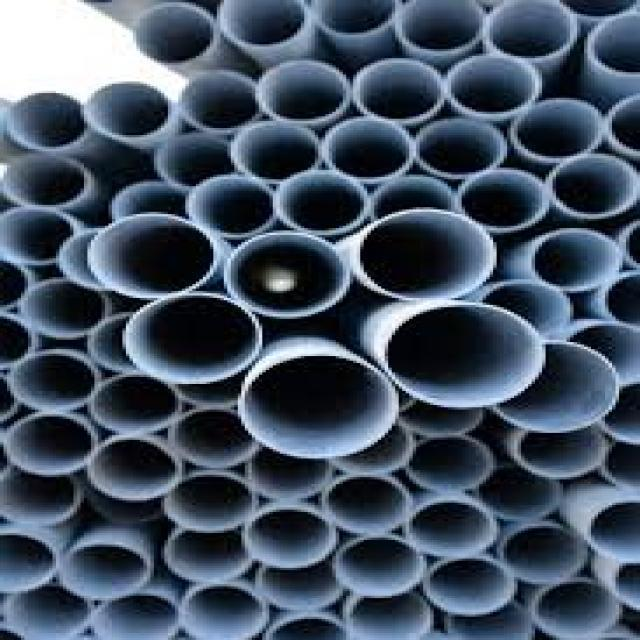pipe: (386, 303, 546, 407), (239, 354, 397, 458), (357, 210, 496, 302), (123, 293, 264, 382), (492, 340, 620, 433), (88, 213, 219, 299), (223, 231, 349, 318), (275, 171, 371, 236), (58, 539, 155, 602), (4, 412, 99, 476), (482, 1, 580, 63), (448, 53, 540, 118), (458, 168, 550, 233), (254, 62, 350, 124), (532, 227, 623, 292), (89, 435, 179, 500), (355, 58, 443, 124), (325, 118, 414, 183), (229, 122, 324, 182), (84, 80, 175, 142), (497, 521, 588, 583), (551, 155, 639, 219), (415, 118, 507, 179), (425, 556, 517, 617), (91, 373, 181, 435), (245, 508, 336, 569), (511, 100, 603, 160), (325, 472, 411, 536), (480, 280, 571, 340), (171, 406, 257, 469), (20, 279, 113, 337), (335, 535, 422, 597), (531, 579, 620, 639), (167, 472, 256, 531), (406, 498, 495, 557), (190, 175, 273, 238), (9, 351, 99, 409), (472, 462, 562, 519), (133, 2, 215, 64), (181, 69, 259, 134), (156, 130, 235, 194), (2, 584, 92, 640), (408, 435, 493, 494), (181, 583, 268, 640), (0, 206, 83, 265), (4, 152, 93, 207), (512, 430, 606, 482), (1, 465, 79, 527), (8, 90, 86, 151), (397, 1, 486, 54), (218, 0, 309, 51), (247, 447, 332, 501), (169, 529, 249, 582), (93, 594, 180, 640), (258, 564, 342, 611), (346, 593, 431, 639), (586, 9, 640, 78), (373, 176, 453, 221), (0, 532, 55, 594), (588, 499, 639, 564), (311, 0, 396, 36), (596, 381, 640, 444)
